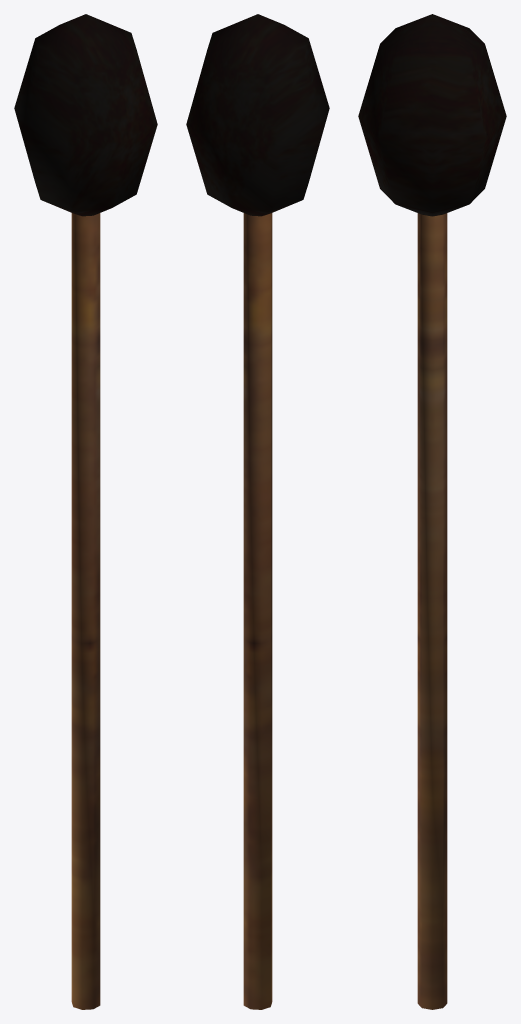
The model's file is cannon_stick.dae.
3 views of the same model, side by side, from view 1: azimuth 30°, elevation 25°; view 2: azimuth 150°, elevation 25°; view 3: azimuth 270°, elevation 25° (orthographic).
Visible parts, largest first — view 1: Palo; view 2: Palo; view 3: Palo.
Part boxes in pixels (left/top/right/bottom): Palo: left=14, top=14, right=157, bottom=1009; Palo: left=186, top=14, right=329, bottom=1009; Palo: left=358, top=14, right=506, bottom=1009.
Bounding box in the file's own units: 0.3586 × 0.3586 × 2.64.
